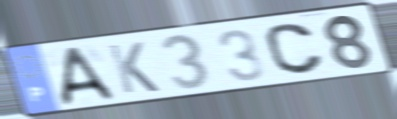3: (159, 32, 215, 92), (217, 28, 265, 82)
8: (322, 13, 375, 71)
A: (60, 44, 119, 108)
C: (262, 22, 327, 77)
K: (104, 40, 162, 96)
